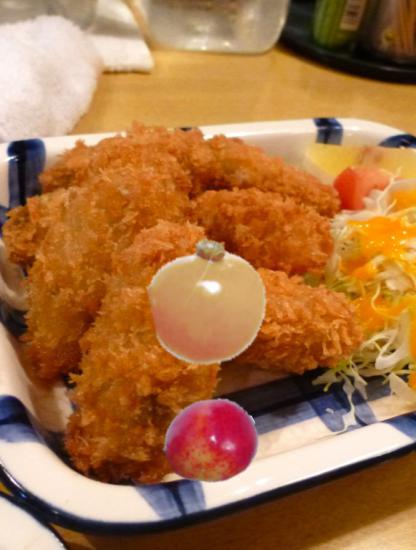Cherry: (164, 394, 260, 490)
Physalis: (144, 238, 273, 367)
